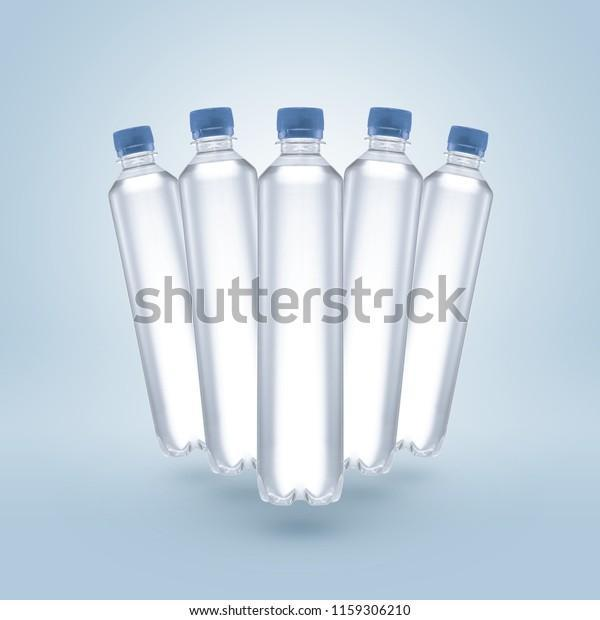bottle: (251, 104, 349, 509), (99, 121, 205, 461), (393, 125, 493, 459), (346, 108, 430, 491), (181, 102, 260, 474)
